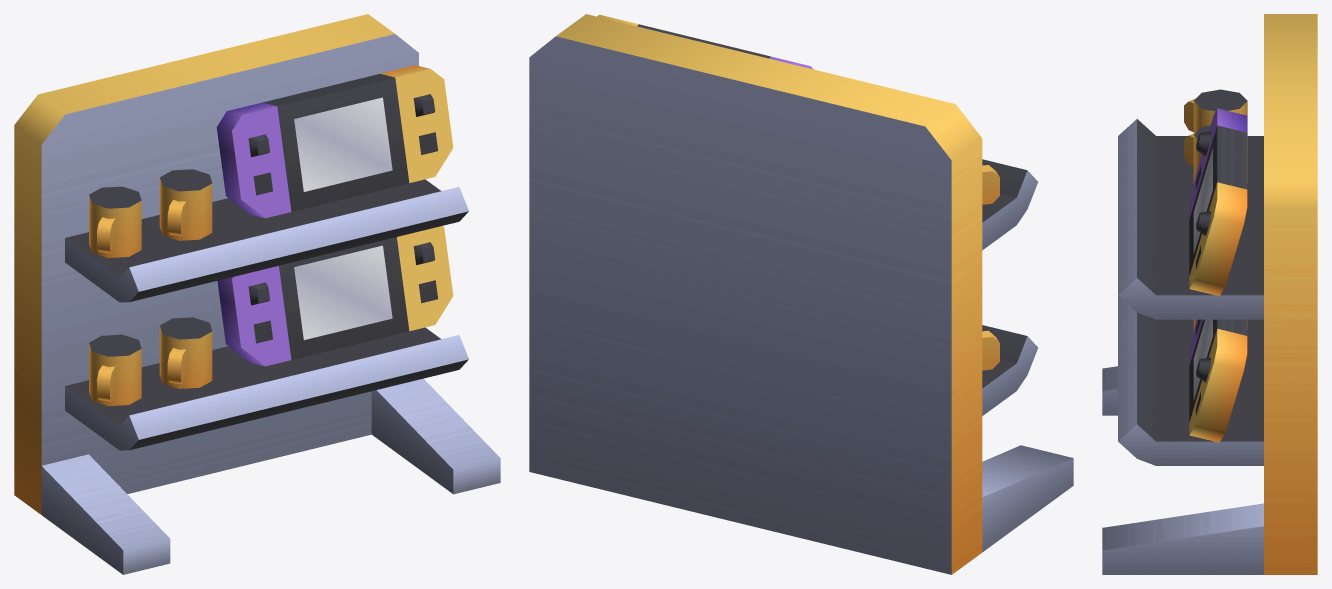
Rendered from prizes.glb.
The picture shows the model from 3 angles, left to right: view 1: azimuth 30°, elevation 25°; view 2: azimuth 150°, elevation 25°; view 3: azimuth 270°, elevation 25°; orthographic projection. The views are drawn at different scales.
Parts seen in each view (by area): view 1: prizes; view 2: prizes; view 3: prizes.
Boxes of the visible parts, box(x1,y1,x2,y2) form: prizes: box(14, 14, 500, 574); prizes: box(529, 14, 1073, 574); prizes: box(1102, 14, 1317, 574).
Size of the model in its own units: 0.8 by 0.8 by 0.4.
Materials: 1 (1 with a texture image).
